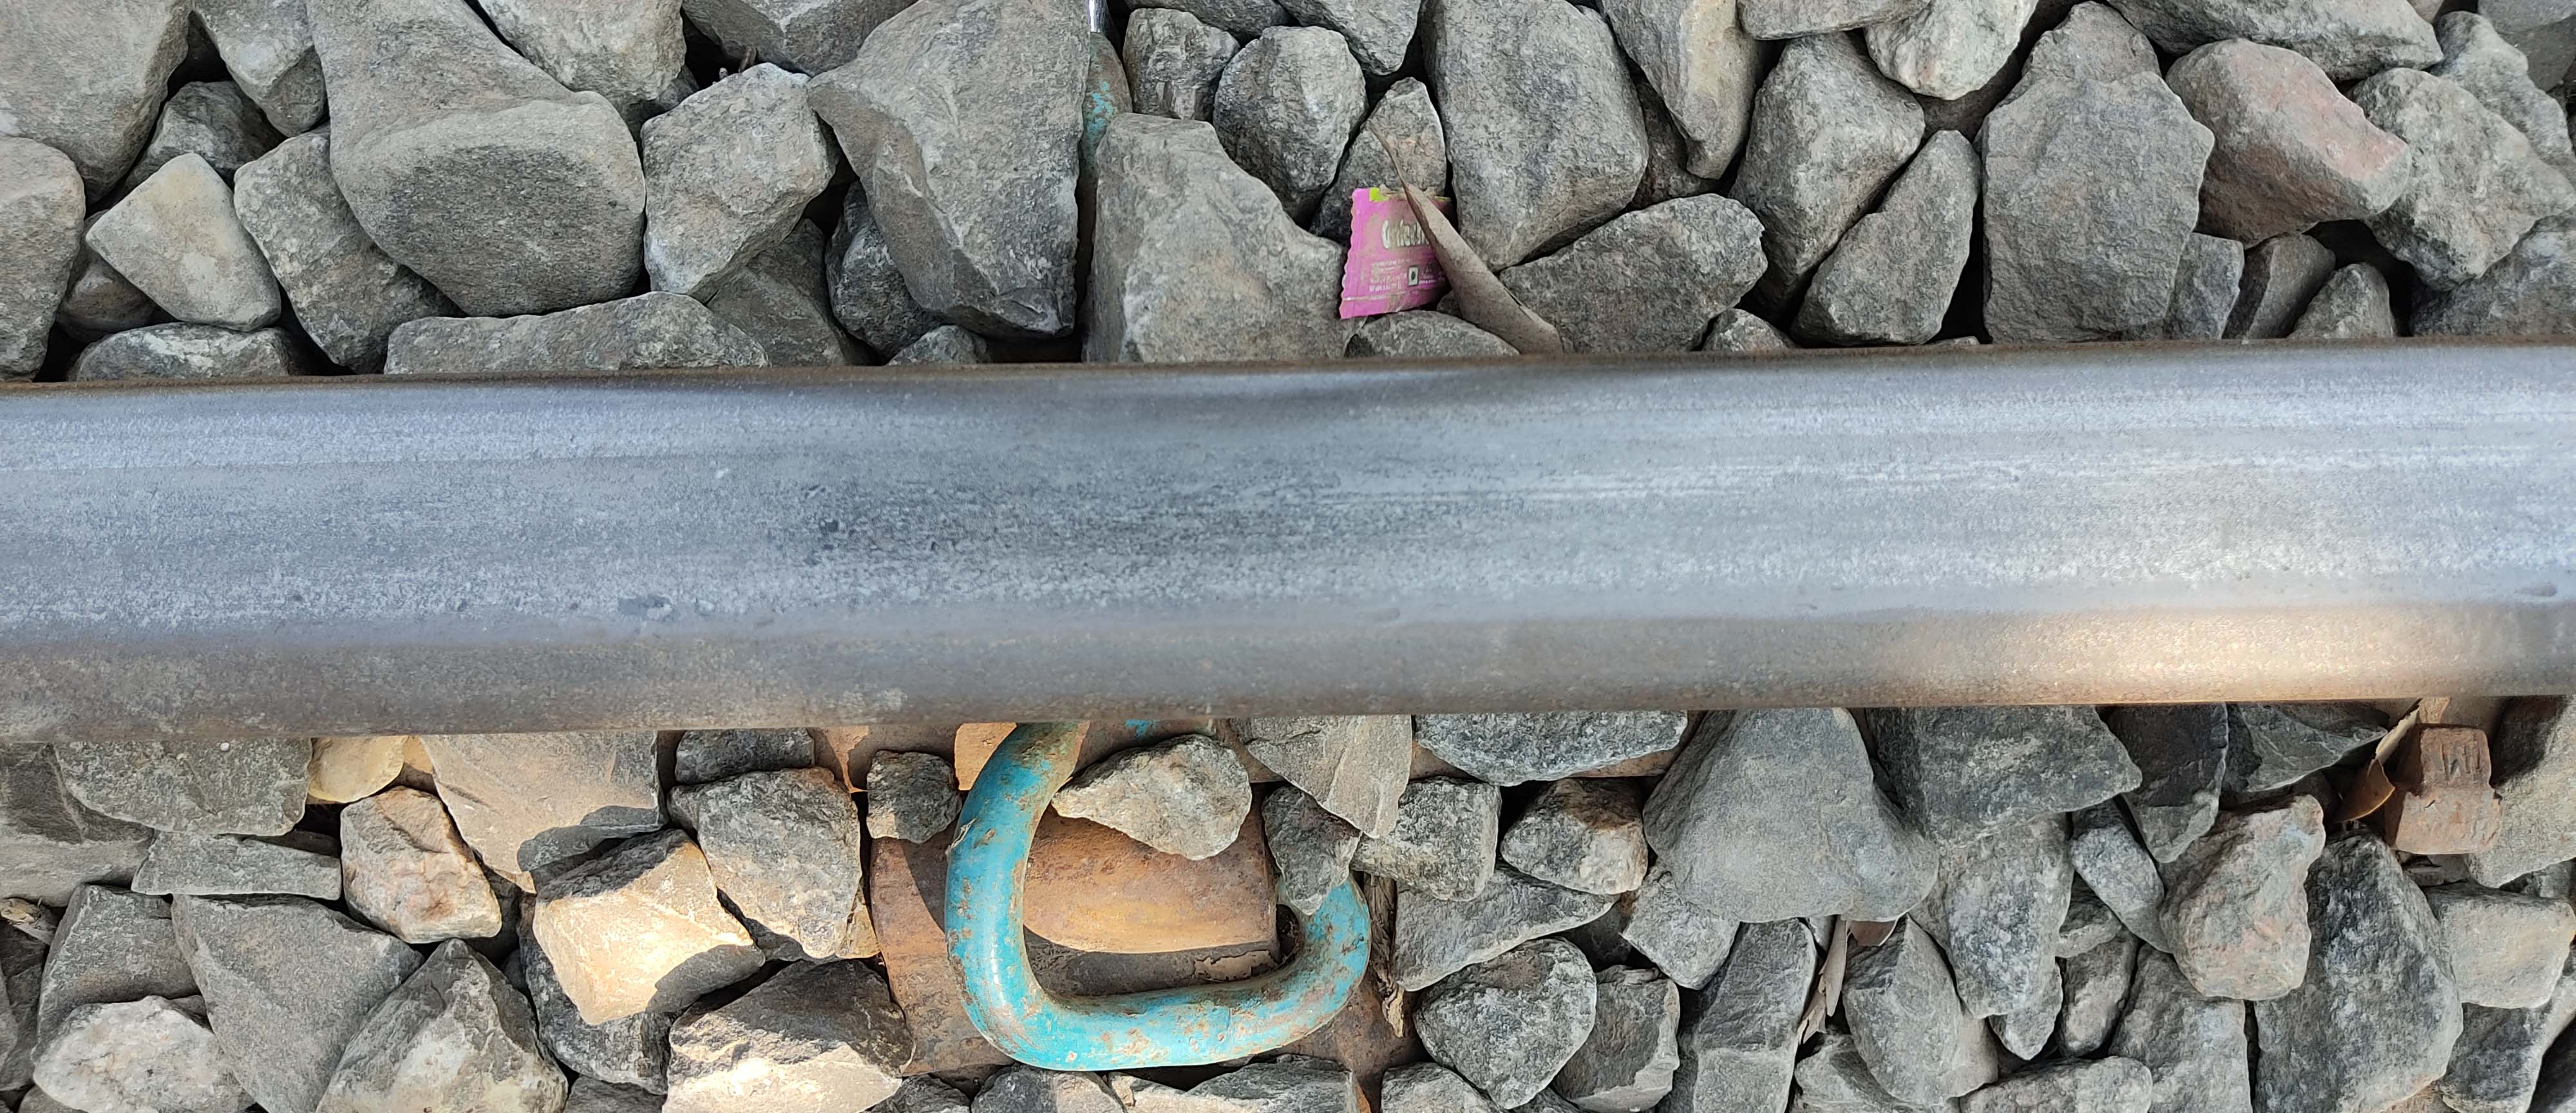error1: (927, 671, 1419, 1100)
